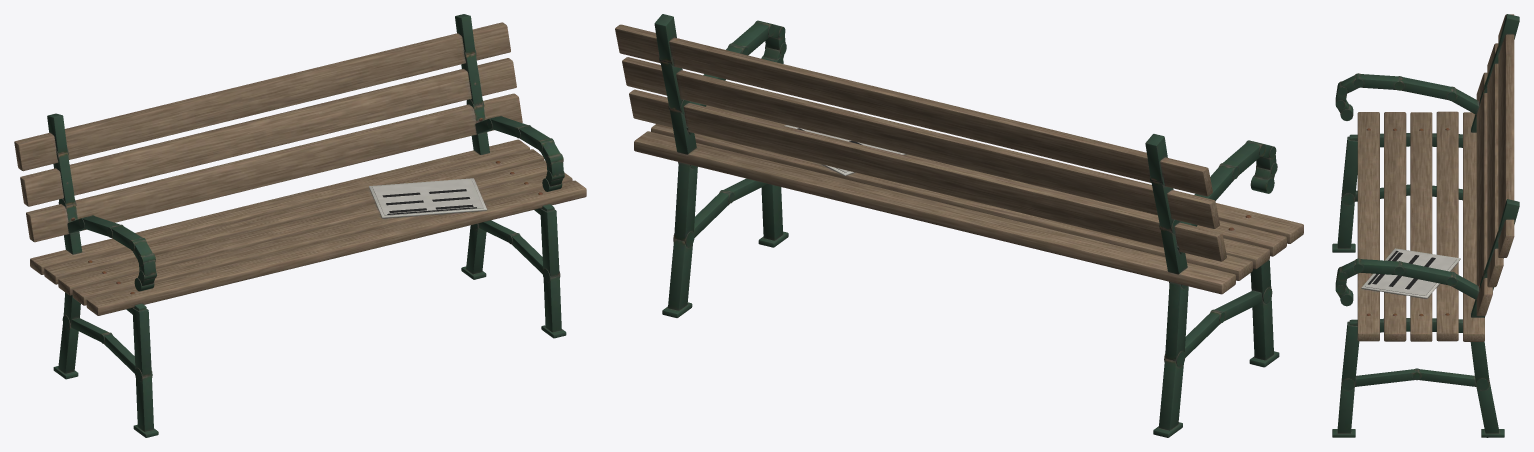
Rendered from banco_praca.glb.
3 views of the same model, side by side, from view 1: azimuth 30°, elevation 25°; view 2: azimuth 150°, elevation 25°; view 3: azimuth 270°, elevation 25° (orthographic). The views are drawn at different scales.
Visible parts, largest first — view 1: banco; view 2: banco; view 3: banco.
Part boxes in pixels (<box>): banco: <box>14,14,586,437</box>; banco: <box>615,14,1303,437</box>; banco: <box>1332,14,1519,437</box>.
Size of the model in its own units: 1.8 by 0.8883 by 0.6416.
1 material, 1 textured.
